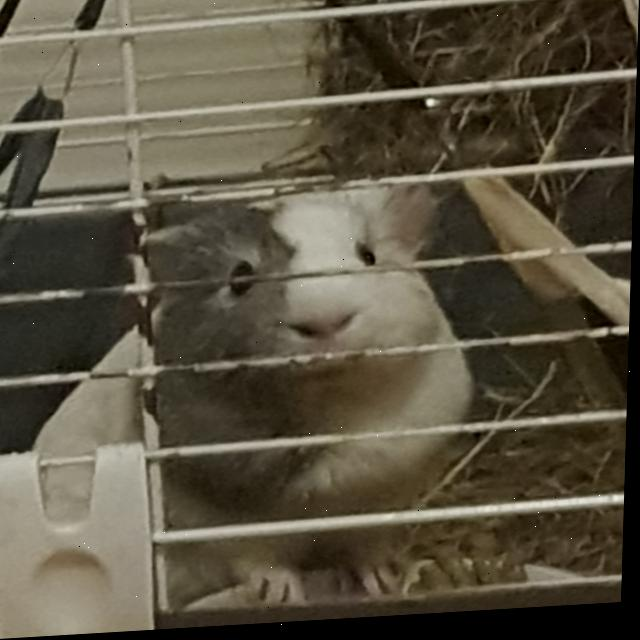guinea pig: (24, 186, 513, 623)
